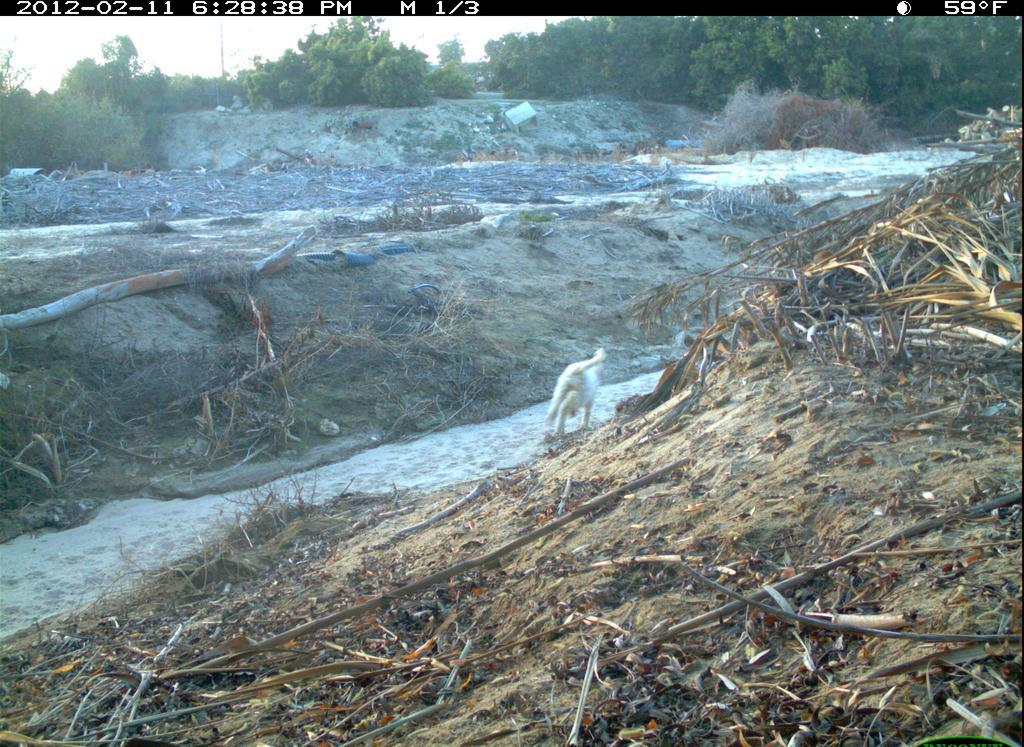dog: (529, 346, 635, 459)
